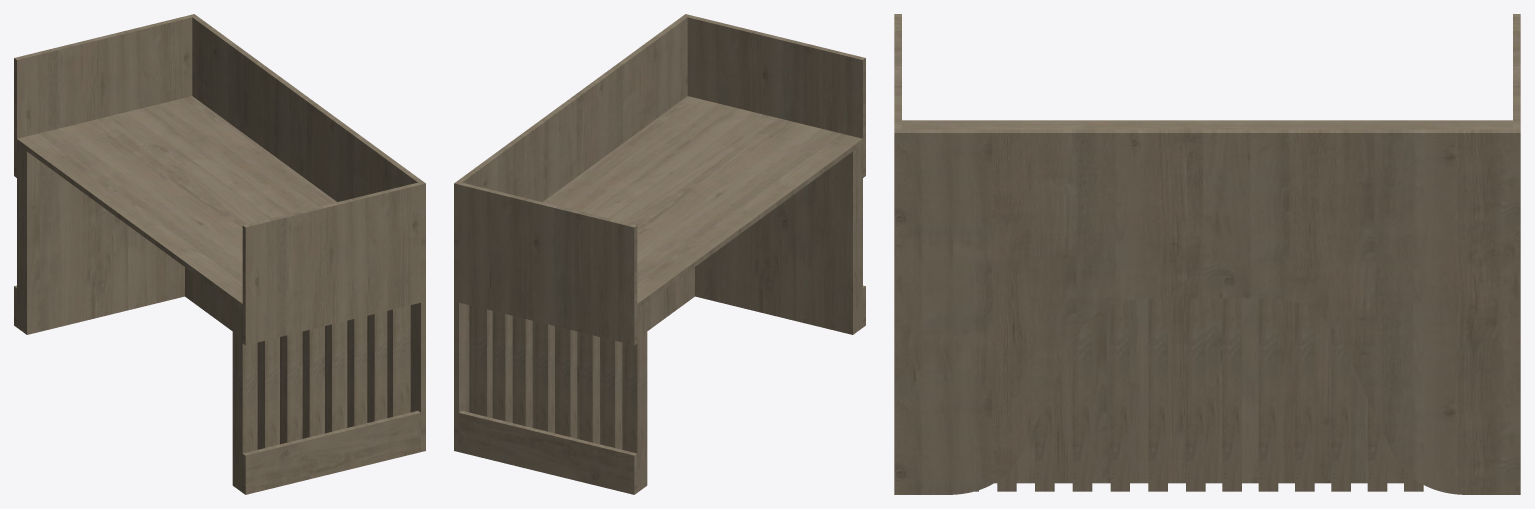
The model's file is res14.glb.
3 renders of one model, left to right at view 1: azimuth 30°, elevation 25°; view 2: azimuth 150°, elevation 25°; view 3: azimuth 270°, elevation 25°, orthographic. The views are drawn at different scales.
Parts seen in each view (by area): view 1: Box044, Box083, Box087, Box043, Box088, Box086, Box046, Box049, Box050, Box055, Box052, Box051 (+6 smaller); view 2: Box044, Box088, Box087, Box049, Box083, Box085, Box073, Box043, Box074, Box079, Box076, Box075 (+6 smaller); view 3: Box087, Box041, Box044, Box066, Box063, Box064, Box065, Box062, Box067, Box061, Box068, Box060 (+3 smaller).
Part boxes in pixels (x1=…): Box044: x1=17, y1=96, x2=336, y2=308; Box083: x1=242, y1=182, x2=420, y2=345; Box087: x1=190, y1=14, x2=425, y2=451; Box043: x1=24, y1=149, x2=184, y2=334; Box088: x1=14, y1=15, x2=192, y2=177; Box086: x1=242, y1=411, x2=420, y2=494; Box046: x1=235, y1=304, x2=255, y2=492; Box049: x1=232, y1=302, x2=367, y2=486; Box050: x1=257, y1=337, x2=277, y2=449; Box055: x1=367, y1=311, x2=387, y2=422; Box052: x1=302, y1=327, x2=322, y2=438; Box051: x1=280, y1=332, x2=299, y2=444; Box044: x1=543, y1=96, x2=862, y2=308; Box088: x1=459, y1=182, x2=637, y2=345; Box087: x1=454, y1=14, x2=689, y2=451; Box049: x1=695, y1=149, x2=855, y2=334; Box083: x1=687, y1=15, x2=865, y2=177; Box085: x1=459, y1=411, x2=637, y2=494; Box073: x1=624, y1=304, x2=644, y2=492; Box043: x1=512, y1=302, x2=647, y2=486; Box074: x1=602, y1=337, x2=622, y2=449; Box079: x1=492, y1=311, x2=512, y2=422; Box076: x1=557, y1=327, x2=577, y2=438; Box075: x1=580, y1=332, x2=599, y2=444; Box087: x1=894, y1=129, x2=1520, y2=494; Box041: x1=994, y1=298, x2=1403, y2=483; Box044: x1=902, y1=120, x2=1512, y2=129; Box066: x1=1258, y1=298, x2=1278, y2=491; Box063: x1=1148, y1=298, x2=1167, y2=491; Box064: x1=1186, y1=298, x2=1205, y2=491; Box065: x1=1222, y1=298, x2=1241, y2=491; Box062: x1=1110, y1=300, x2=1129, y2=491; Box067: x1=1295, y1=302, x2=1314, y2=491; Box061: x1=1072, y1=317, x2=1092, y2=491; Box068: x1=1331, y1=326, x2=1350, y2=491; Box060: x1=1035, y1=383, x2=1054, y2=491.
Size of the model in its own units: 0.72 by 1.02 by 1.6.
1 material, 1 textured.
